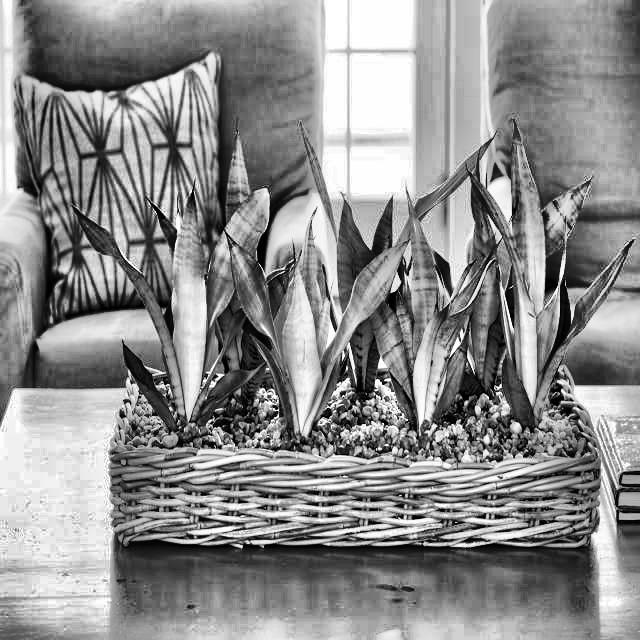plants: (90, 198, 605, 530)
